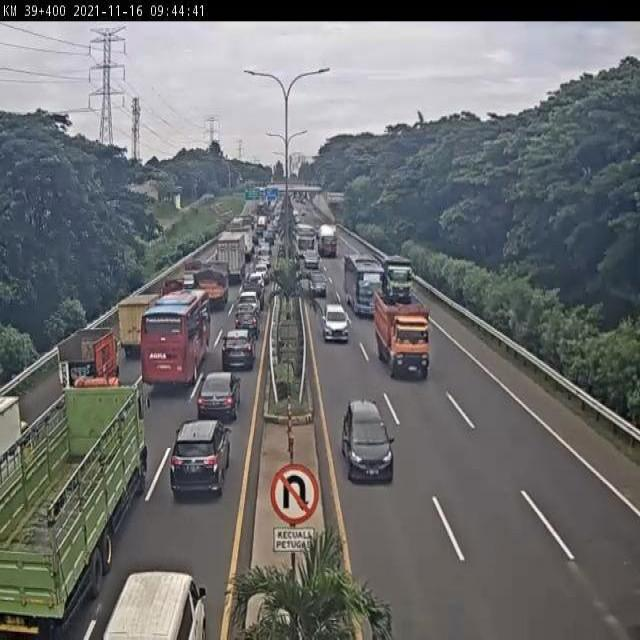big bus: (142, 292, 210, 385), (344, 253, 386, 316)
car: (169, 423, 230, 504), (342, 401, 392, 483), (194, 372, 239, 421), (221, 331, 253, 373), (320, 302, 348, 342), (232, 308, 259, 335), (236, 288, 261, 316)
small truck: (117, 291, 158, 352)
truck-l-: (0, 392, 151, 635), (377, 250, 412, 302)
truck-m-: (374, 299, 431, 376), (56, 328, 121, 392), (192, 265, 228, 316)
